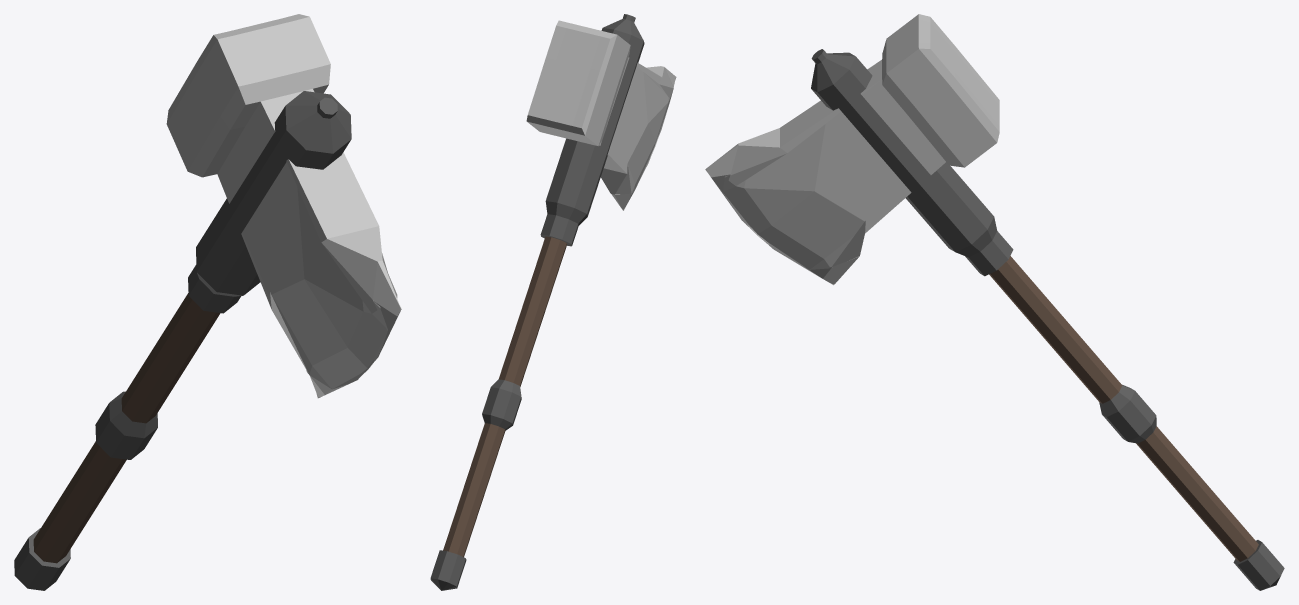
Rendered from axe.fbx.
3 views of the same model, side by side, from view 1: azimuth 30°, elevation 25°; view 2: azimuth 150°, elevation 25°; view 3: azimuth 270°, elevation 25° (orthographic). The views are drawn at different scales.
Visible parts, largest first — view 1: axe, handle; view 2: handle, axe; view 3: axe, handle.
Boxes of the visible parts, x1,y1,x2,y2 form: axe: (166,14,401,398); handle: (14,91,351,590); handle: (430,14,644,590); axe: (526,20,676,210); axe: (705,14,999,285); handle: (811,49,1284,590).
Bounding box in the file's own units: 32.15 × 240 × 226.
